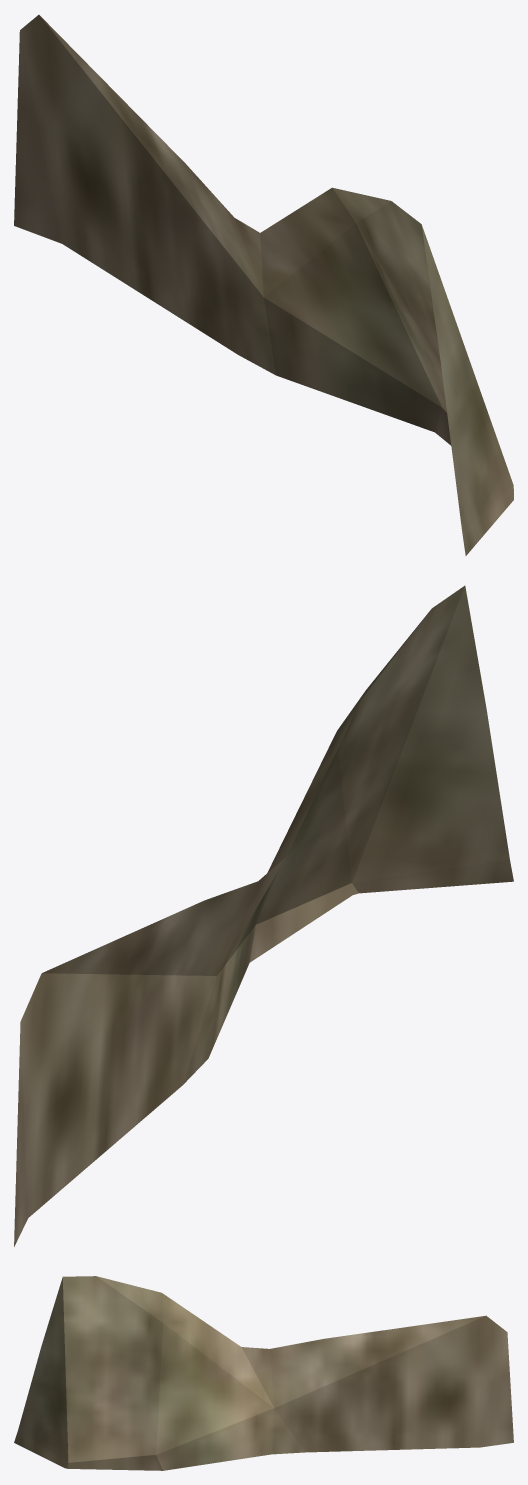
3 views of the same model, one above another, from view 1: azimuth 30°, elevation 25°; view 2: azimuth 150°, elevation 25°; view 3: azimuth 270°, elevation 25° (orthographic). The views are drawn at different scales.
Bounding box in the file's own units: 0.108 × 0.2966 × 0.8063.
Materials: 1 (1 with a texture image).
